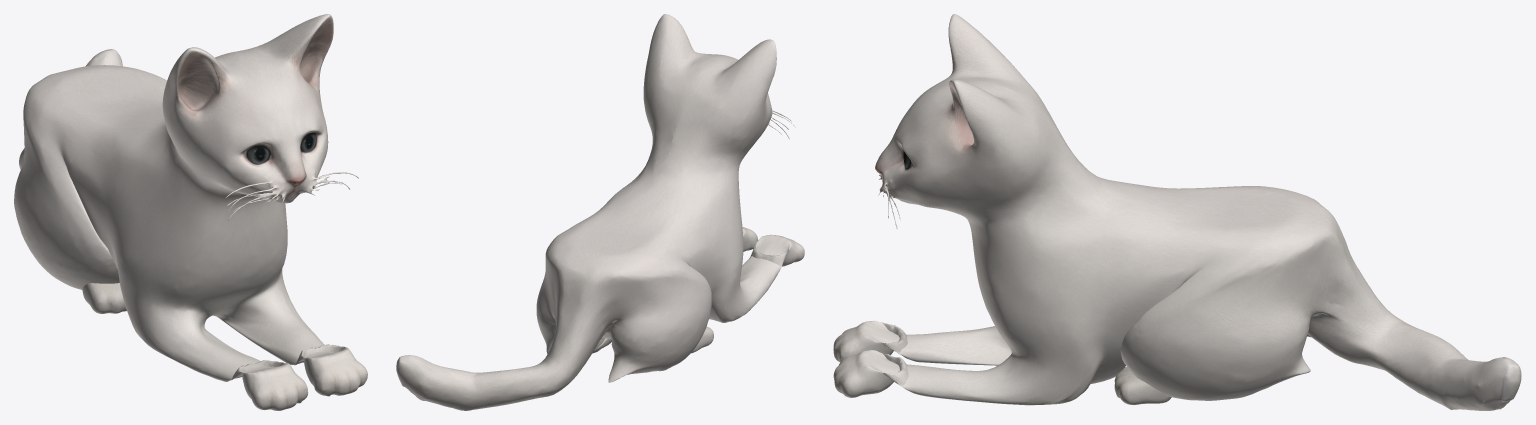
The model's file is snowdrop-lie-static.glb.
3 views of the same model, side by side, from view 1: azimuth 30°, elevation 25°; view 2: azimuth 150°, elevation 25°; view 3: azimuth 270°, elevation 25° (orthographic). The views are drawn at different scales.
Visible parts, largest first — view 1: Snowdrop_lie_static; view 2: Snowdrop_lie_static; view 3: Snowdrop_lie_static.
Boxes of the visible parts, x1,y1,x2,y2 form: Snowdrop_lie_static: [14, 14, 367, 410]; Snowdrop_lie_static: [396, 14, 804, 410]; Snowdrop_lie_static: [833, 14, 1521, 410].
Size of the model in its own units: 0.5705 by 0.76 by 1.44.
1 material, 1 textured.
